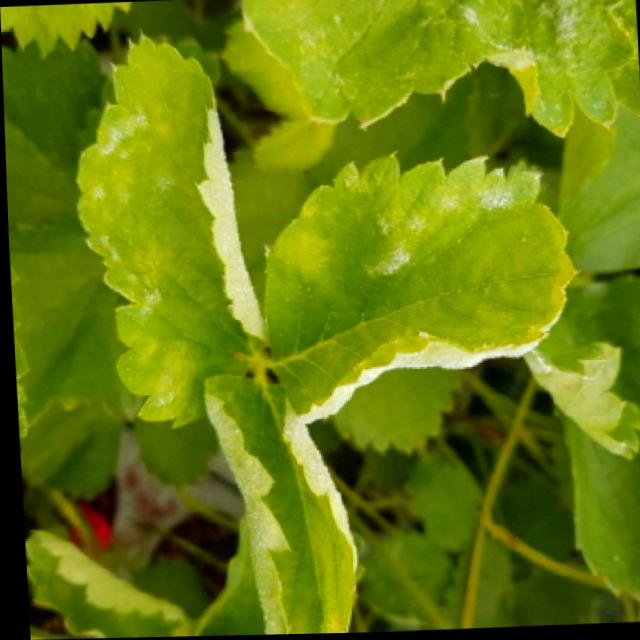Powdery Mildew Leaf: (260, 153, 578, 424), (71, 32, 268, 430), (197, 371, 356, 636), (238, 0, 510, 129), (478, 0, 640, 139)
